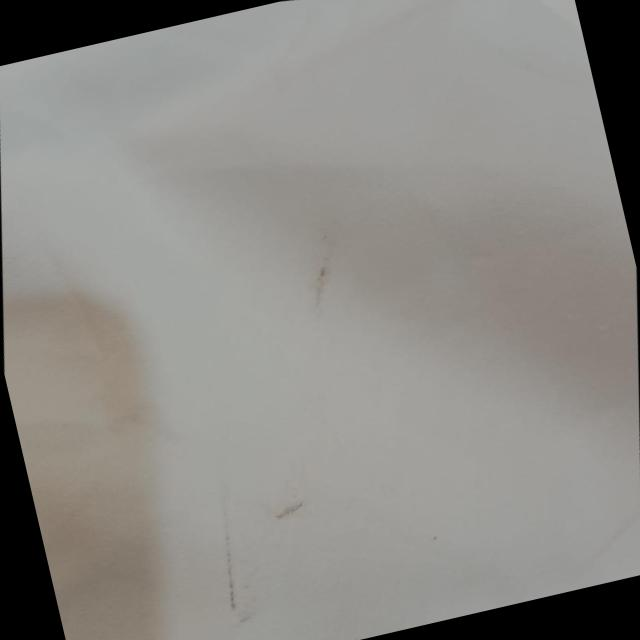stain: (182, 465, 359, 640), (273, 213, 367, 329)
